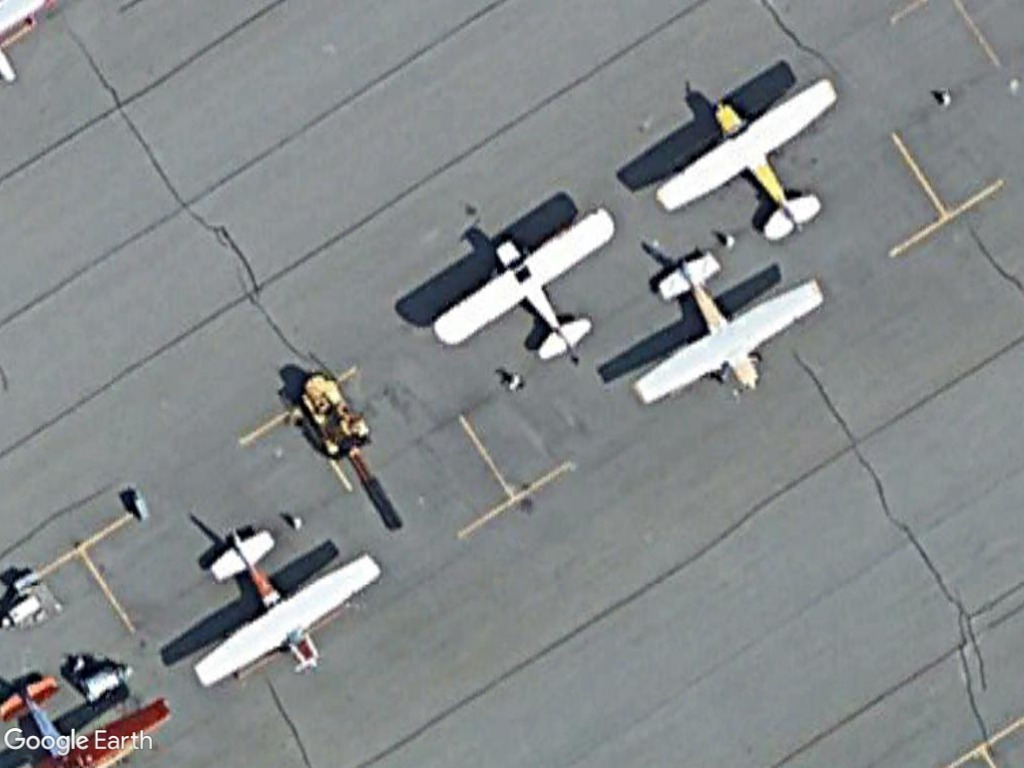trainer: (181, 520, 386, 689), (653, 72, 847, 247), (424, 201, 623, 366), (634, 244, 826, 409)
